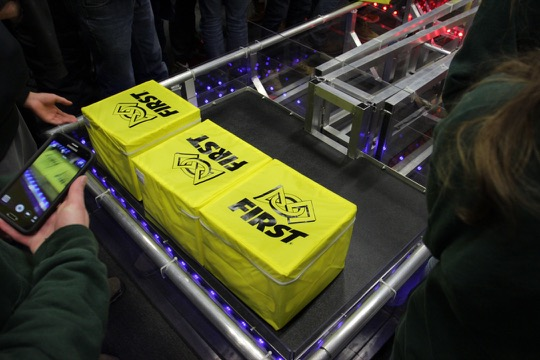cube: (198, 159, 358, 332), (133, 118, 275, 266), (81, 79, 203, 203)
